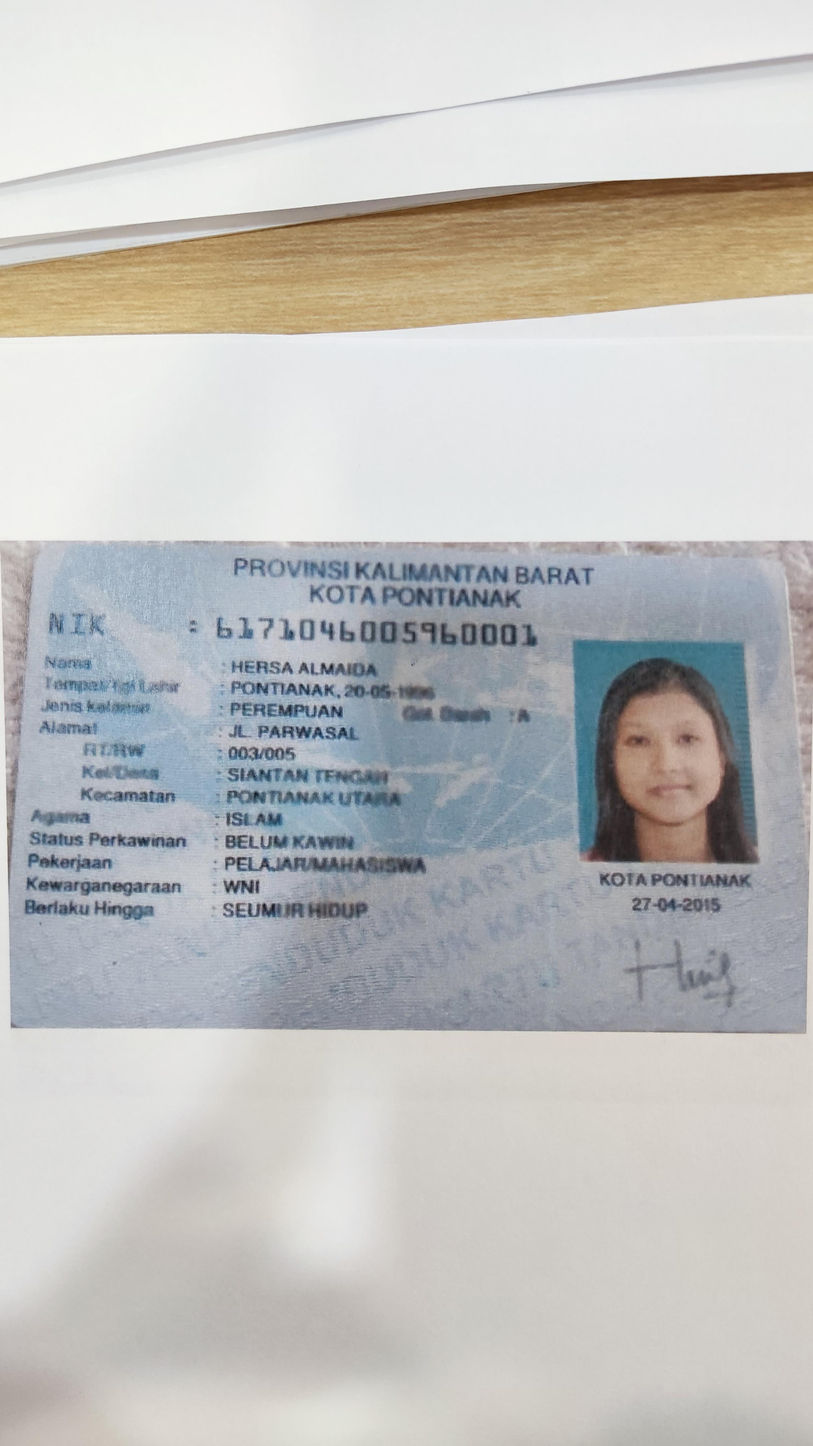ID-card: (16, 550, 795, 1015)
